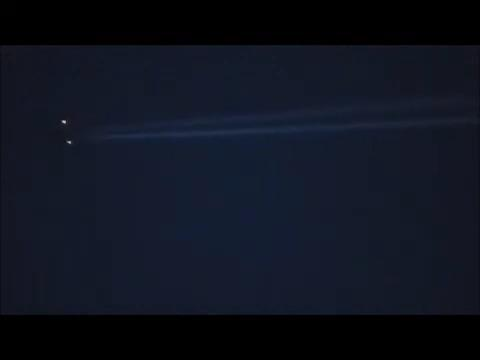Plane: (35, 91, 386, 164)
